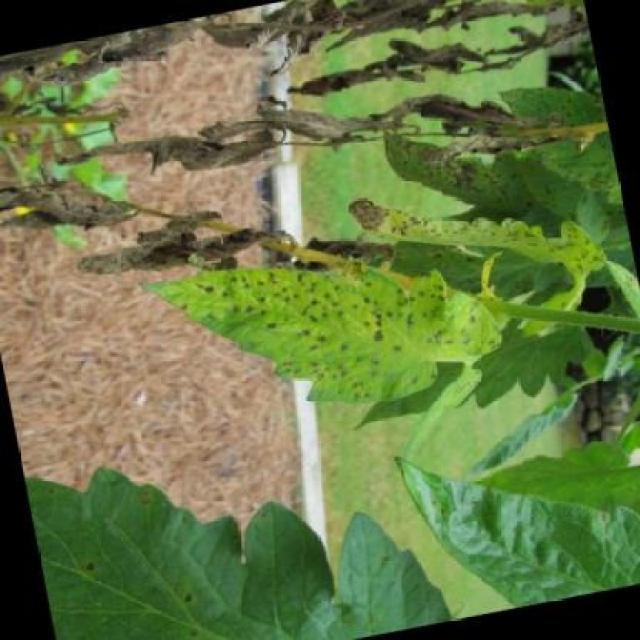Septoria leaf spot: (122, 208, 498, 452)
